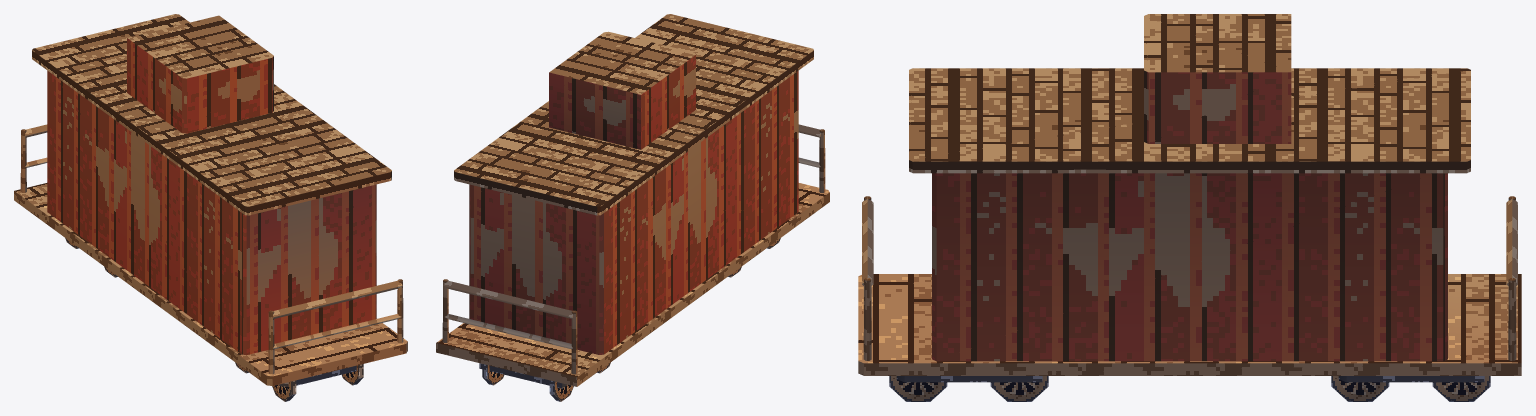
Rendered from wrail.car__caboose.glb.
The picture shows the model from 3 angles, left to right: view 1: azimuth 30°, elevation 25°; view 2: azimuth 150°, elevation 25°; view 3: azimuth 270°, elevation 25°; orthographic projection. The views are drawn at different scales.
Visible parts, largest first — view 1: kit_body, kit_roof, kit_cupola, kit_frame, kit_platforms, kit_wheels, kit_trucks; view 2: kit_body, kit_roof, kit_cupola, kit_frame, kit_platforms, kit_wheels, kit_trucks; view 3: kit_body, kit_roof, kit_frame, kit_cupola, kit_wheels, kit_platforms, kit_trucks.
Part boxes in pixels (x1,y1,x2,y2): kit_body: (47,70,376,354); kit_roof: (32,14,391,215); kit_cupola: (127,15,273,133); kit_frame: (14,183,407,385); kit_platforms: (20,124,403,374); kit_wheels: (65,238,363,401); kit_trucks: (279,365,356,386); kit_body: (469,71,798,354); kit_roof: (454,14,813,215); kit_cupola: (549,31,695,149); kit_frame: (436,183,829,386); kit_platforms: (442,124,825,374); kit_wheels: (482,238,780,401); kit_trucks: (479,363,567,388); kit_body: (932,173,1447,361); kit_roof: (909,68,1470,173); kit_frame: (858,274,1521,375); kit_cupola: (1144,14,1291,143); kit_wheels: (889,376,1490,401); kit_platforms: (862,196,1517,360); kit_trucks: (896,376,1484,382).
Size of the model in its own units: 2.4 by 4.02 by 7.2.
9 materials, 9 textured.
